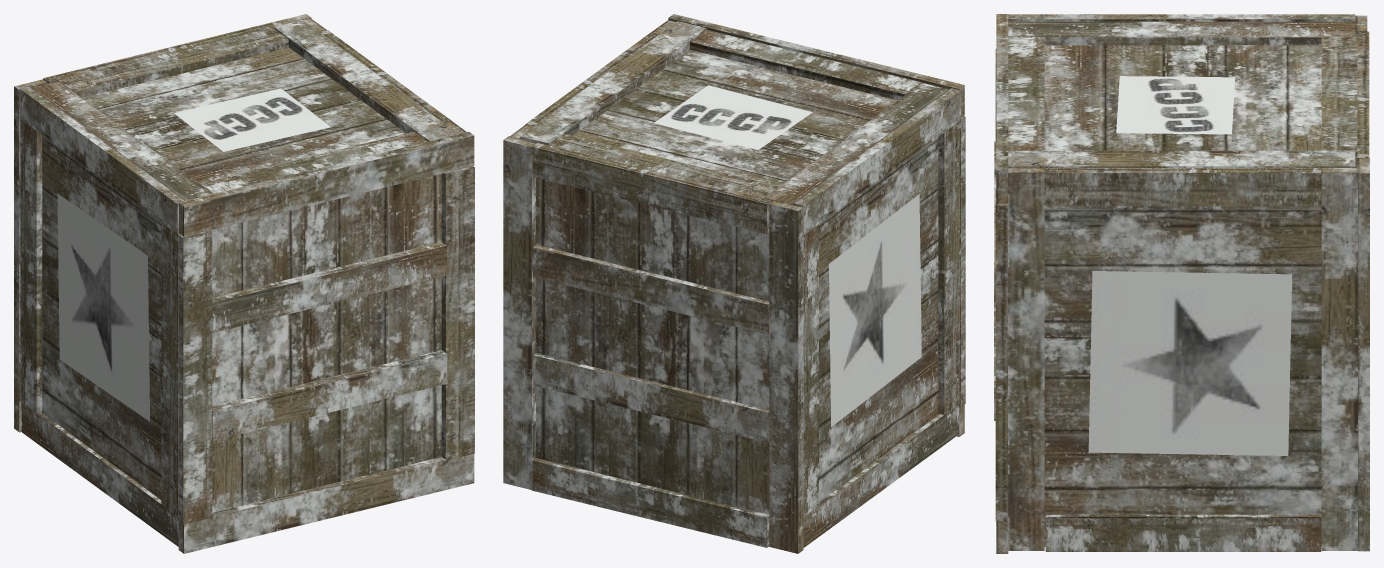
The model's file is prop_crate_dak4_russian.glb.
3 renders of one model, left to right at view 1: azimuth 30°, elevation 25°; view 2: azimuth 150°, elevation 25°; view 3: azimuth 270°, elevation 25°, orthographic. The views are drawn at different scales.
Size of the model in its own units: 31.95 by 36.19 by 32.11.
2 materials, 2 textured.
